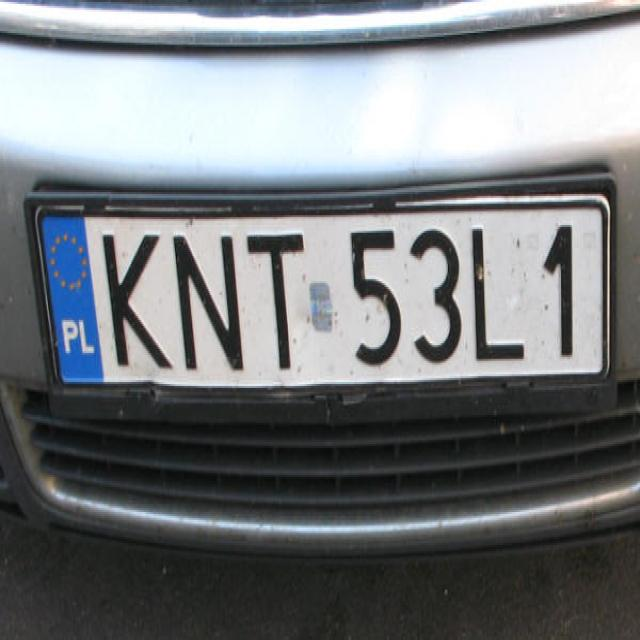pl_license_plate: (40, 206, 602, 382)
